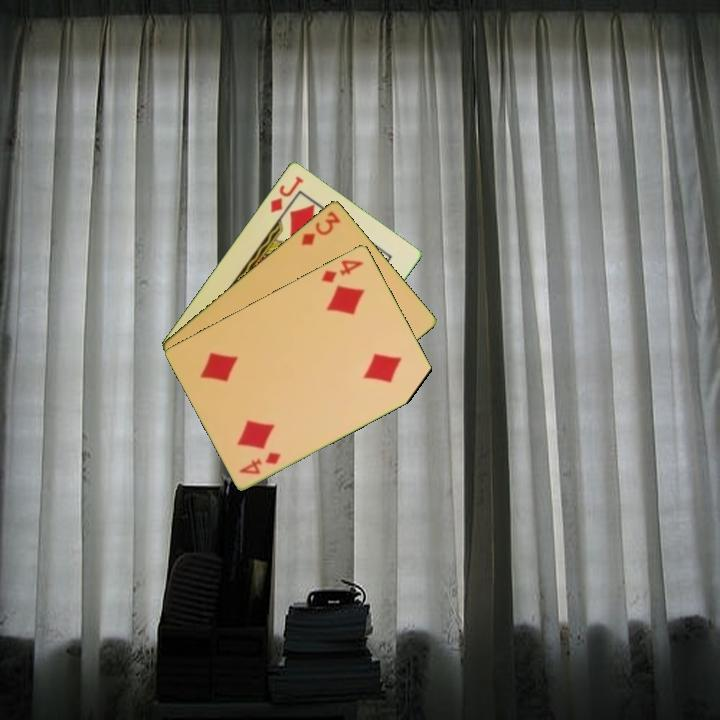3d: (298, 207, 343, 248)
4d: (317, 256, 366, 285), (236, 448, 284, 477)
Jd: (267, 172, 306, 215)
